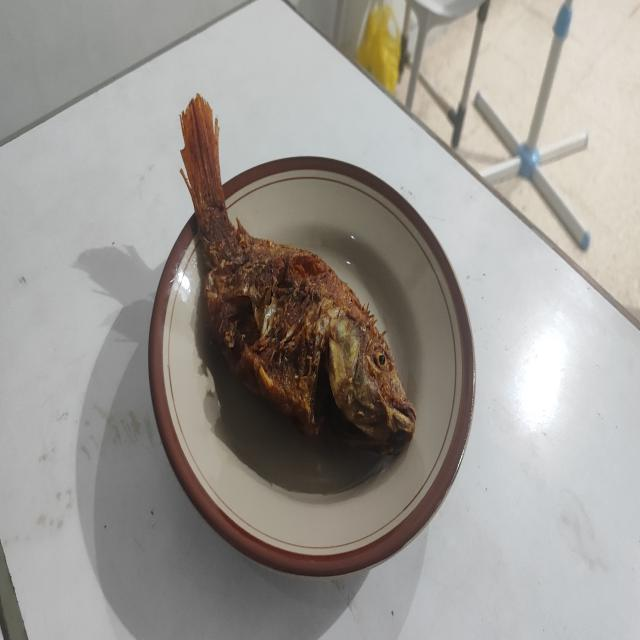ikan_mujair: (181, 95, 416, 452)
